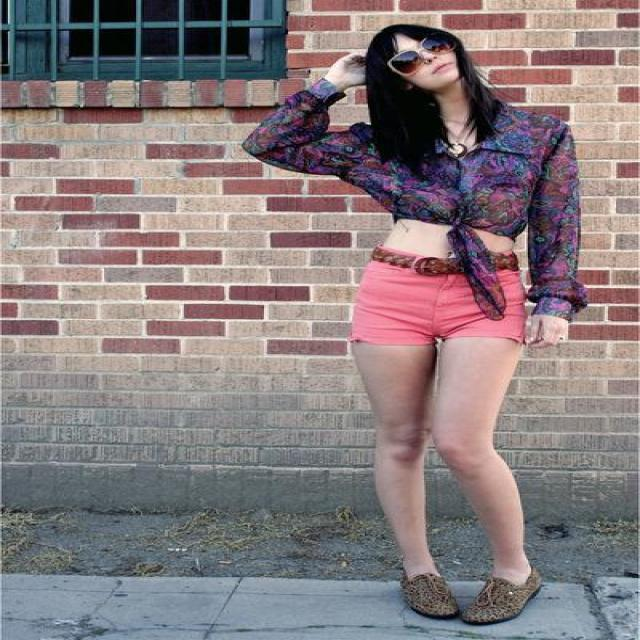shirt: (242, 70, 595, 319)
shoe: (395, 568, 538, 625)
shorts: (349, 253, 520, 358)
sunglass: (388, 51, 430, 82)
